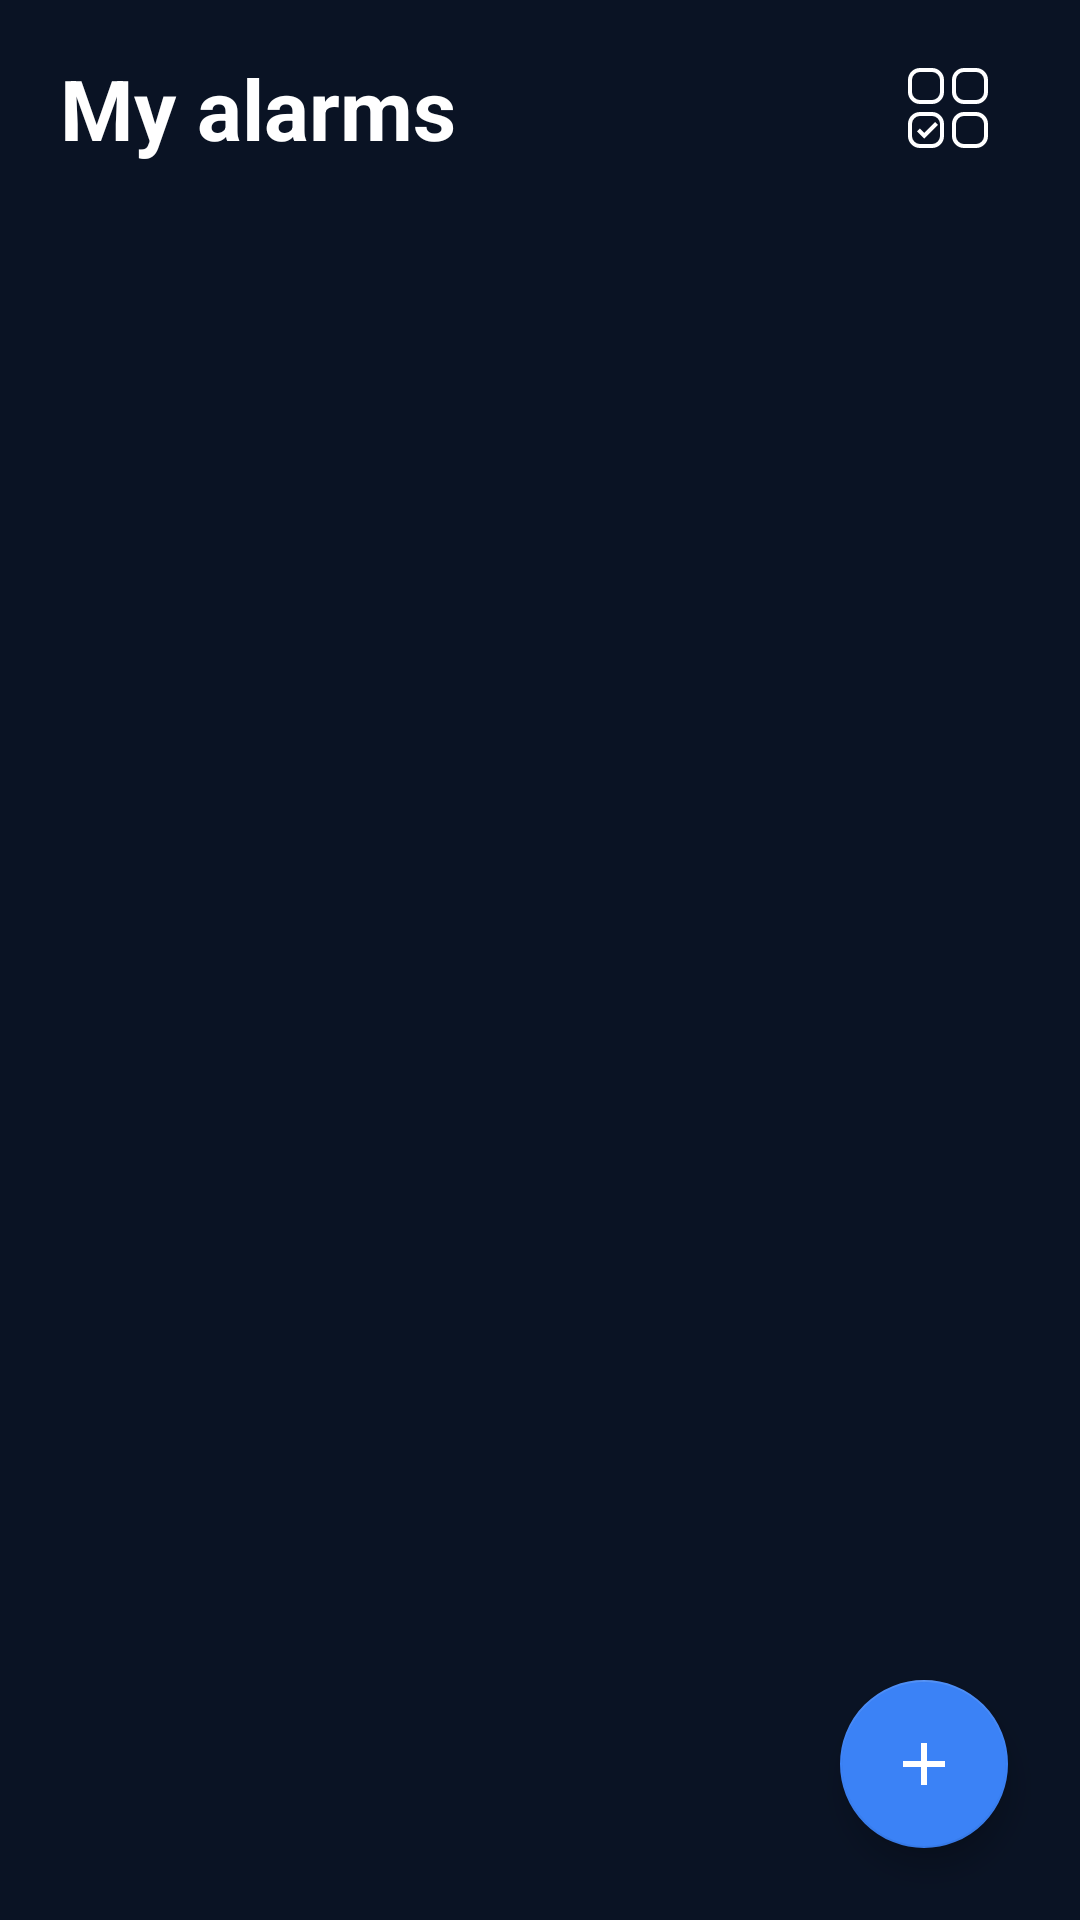

Point at icon controls on the screen. Image size 1080px x 1920px, points as point (x, y).
Add alarm: point (924, 1764)
